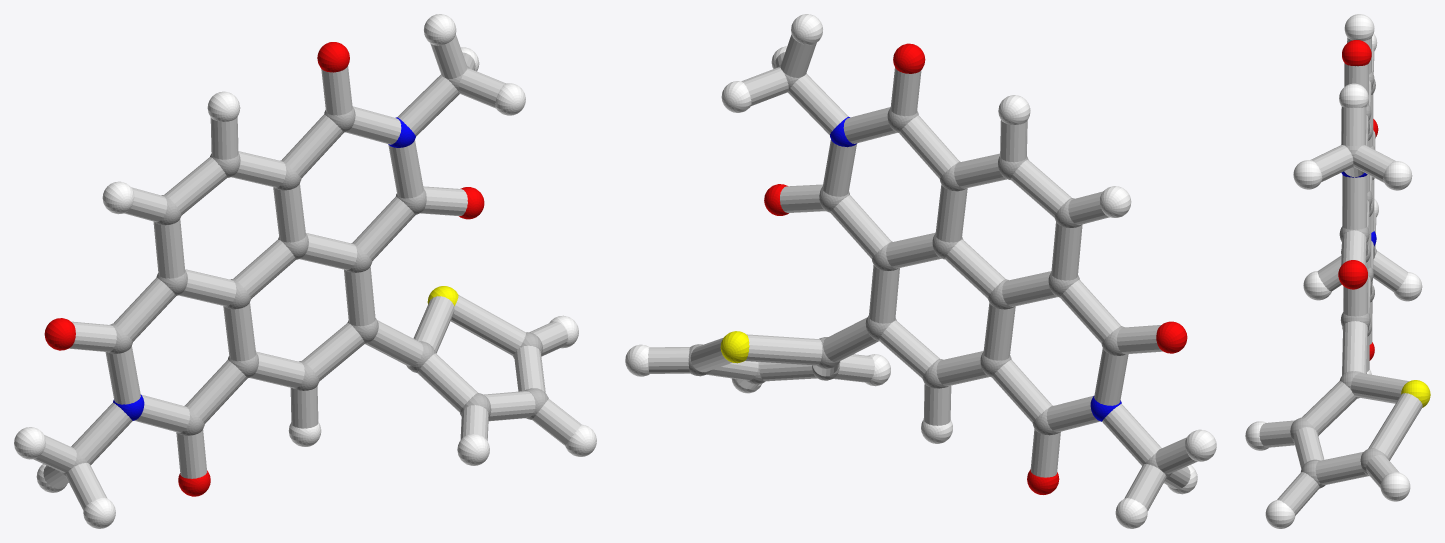
Rendered from Dimethyl_Naphthalene_Dicarboximide_Phi_15_Theta_120_Thiophene.glb.
3 renders of one model, left to right at view 1: azimuth 30°, elevation 25°; view 2: azimuth 150°, elevation 25°; view 3: azimuth 270°, elevation 25°, orthographic. The views are drawn at different scales.
Parts seen in each view (by area): view 1: grp14119, grp7241, grp1, grp12309, grp11585; view 2: grp14119, grp7241, grp1, grp12309, grp13757, grp11585; view 3: grp14119, grp7241, grp1, grp12309, grp13757.
Boxes of the visible parts, <box> form: grp14119: <box>33,35,581,510</box>; grp7241: <box>14,14,596,528</box>; grp1: <box>61,66,548,476</box>; grp12309: <box>44,42,484,496</box>; grp11585: <box>113,117,415,420</box>; grp14119: <box>648,34,1197,510</box>; grp7241: <box>625,14,1216,528</box>; grp1: <box>688,65,1171,478</box>; grp12309: <box>764,43,1187,494</box>; grp13757: <box>720,331,749,363</box>; grp11585: <box>830,116,1121,421</box>; grp14119: <box>1259,37,1422,515</box>; grp7241: <box>1245,14,1422,528</box>; grp1: <box>1290,71,1388,488</box>; grp12309: <box>1338,40,1378,360</box>; grp13757: <box>1401,380,1430,407</box>.
Size of the model in its own units: 12.26 by 8.83 by 3.72.
